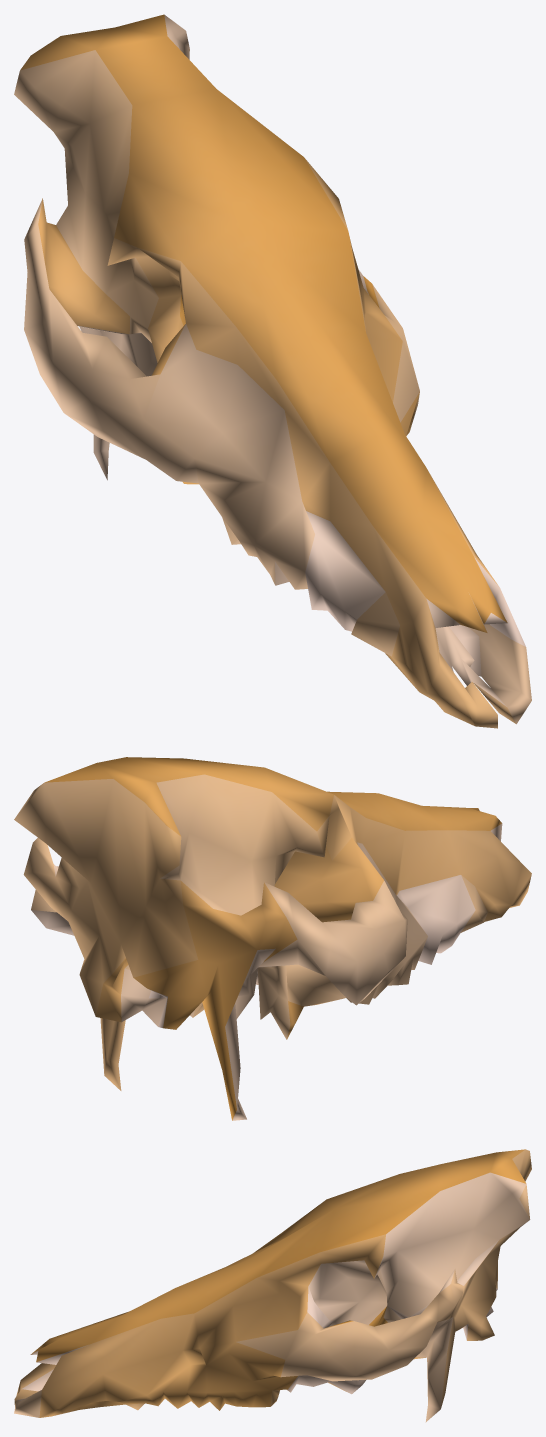
The model's file is Fossil3.fbx.
The picture shows the model from 3 angles, top to bottom: view 1: azimuth 30°, elevation 25°; view 2: azimuth 150°, elevation 25°; view 3: azimuth 270°, elevation 25°; orthographic projection. The views are drawn at different scales.
Visible parts, largest first — view 1: vigjcekaa_LOD0_TIER3_000; view 2: vigjcekaa_LOD0_TIER3_000; view 3: vigjcekaa_LOD0_TIER3_000.
Boxes of the visible parts, box(x1,y1,x2,y2) form: vigjcekaa_LOD0_TIER3_000: box(14, 14, 531, 728); vigjcekaa_LOD0_TIER3_000: box(14, 757, 531, 1120); vigjcekaa_LOD0_TIER3_000: box(14, 1149, 531, 1422).
Size of the model in its own units: 10.83 by 13.41 by 24.8.
